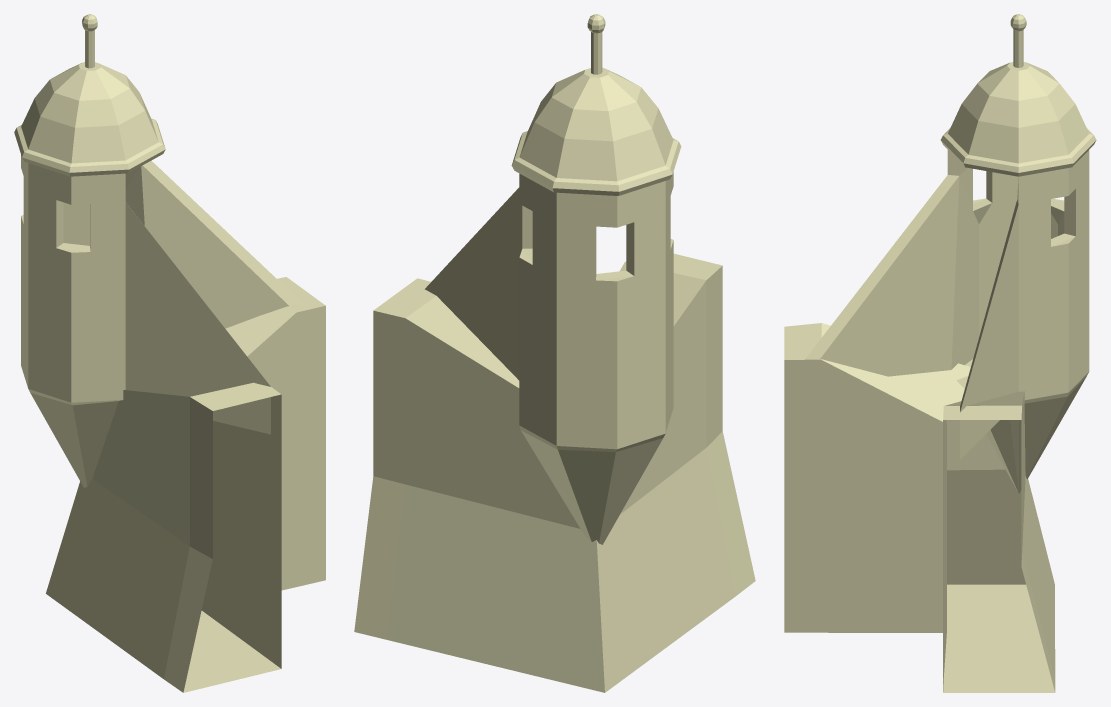
The model's file is baluarte.fbx.
3 renders of one model, left to right at view 1: azimuth 30°, elevation 25°; view 2: azimuth 150°, elevation 25°; view 3: azimuth 270°, elevation 25°, orthographic. The views are drawn at different scales.
Visible parts, largest first — view 1: baluarte; view 2: baluarte; view 3: baluarte.
Part boxes in pixels (box(x1,y1,x2,y2)): baluarte: box(14, 14, 325, 692); baluarte: box(354, 14, 755, 692); baluarte: box(784, 14, 1096, 692).
Bounding box in the file's own units: 389 × 820 × 398.
